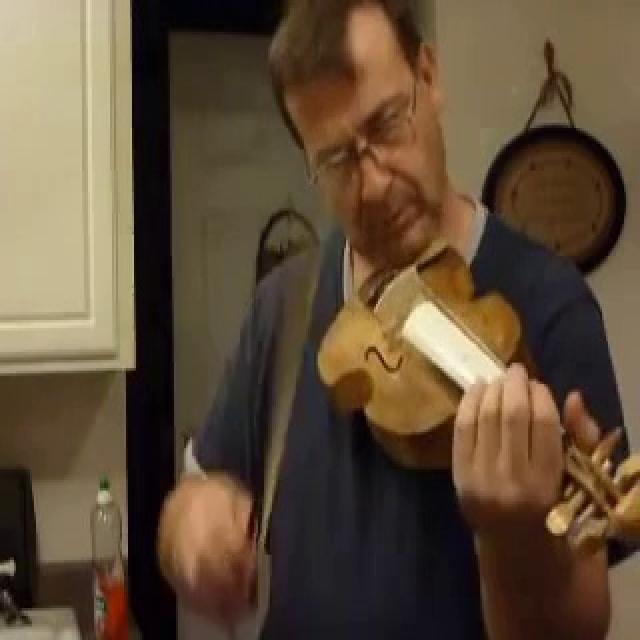Violin: (307, 223, 640, 560)
